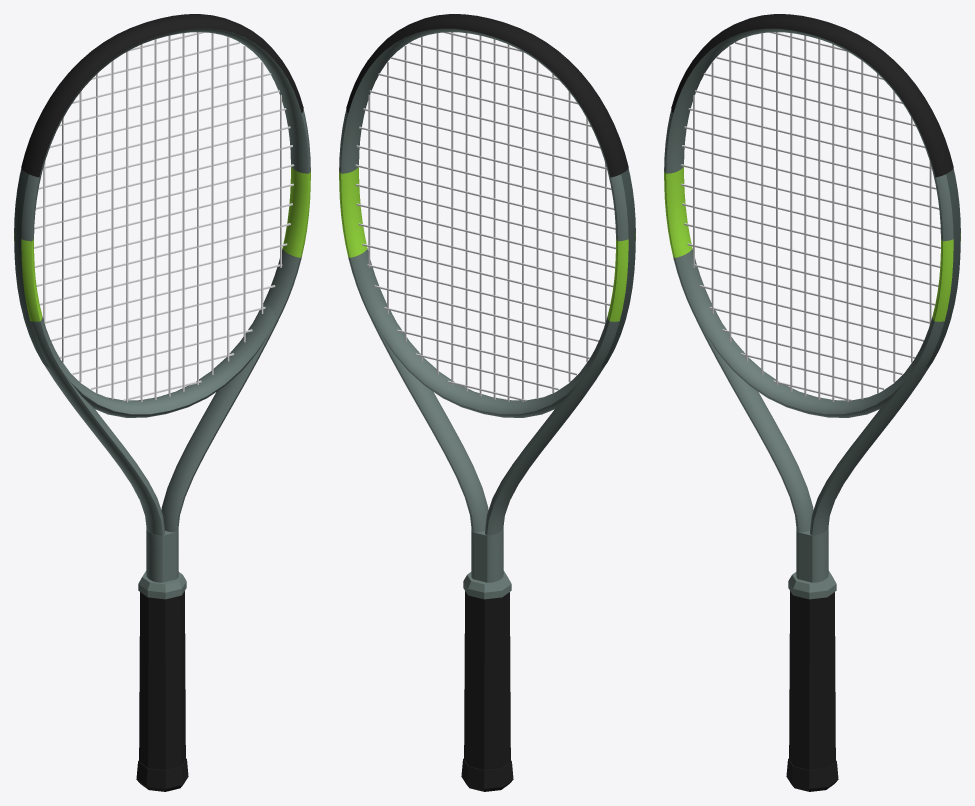
The model's file is babolat-evo-aero-lite-2026.glb.
3 renders of one model, left to right at view 1: azimuth 30°, elevation 25°; view 2: azimuth 150°, elevation 25°; view 3: azimuth 330°, elevation 25°, orthographic.
Parts seen in each view (by area): view 1: frame, strings_mains, strings_crosses, grip, bumper, grommets, butt_cap, collar; view 2: frame, strings_mains, strings_crosses, grip, bumper, grommets, butt_cap, collar; view 3: frame, strings_mains, strings_crosses, grip, bumper, grommets, butt_cap, collar.
Part boxes in pixels (left/top/right/bottom): frame: left=14, top=28, right=310, bottom=582; strings_mains: left=43, top=32, right=281, bottom=402; strings_crosses: left=34, top=32, right=294, bottom=401; grip: left=139, top=591, right=185, bottom=770; bumper: left=21, top=14, right=303, bottom=177; grommets: left=14, top=169, right=48, bottom=367; butt_cap: left=136, top=758, right=188, bottom=791; collar: left=138, top=571, right=186, bottom=599; frame: left=339, top=28, right=635, bottom=582; strings_mains: left=368, top=32, right=606, bottom=401; strings_crosses: left=355, top=32, right=615, bottom=401; grip: left=464, top=591, right=510, bottom=770; bumper: left=346, top=14, right=628, bottom=177; grommets: left=601, top=169, right=635, bottom=367; butt_cap: left=461, top=758, right=513, bottom=791; collar: left=463, top=571, right=511, bottom=599; frame: left=664, top=28, right=960, bottom=582; strings_mains: left=693, top=32, right=931, bottom=402; strings_crosses: left=680, top=32, right=940, bottom=401; grip: left=789, top=591, right=835, bottom=770; bumper: left=671, top=14, right=953, bottom=177; grommets: left=926, top=169, right=960, bottom=367; butt_cap: left=786, top=758, right=838, bottom=791; collar: left=788, top=571, right=836, bottom=599.
Size of the model in its own units: 0.2742 by 0.6861 by 0.0396.
